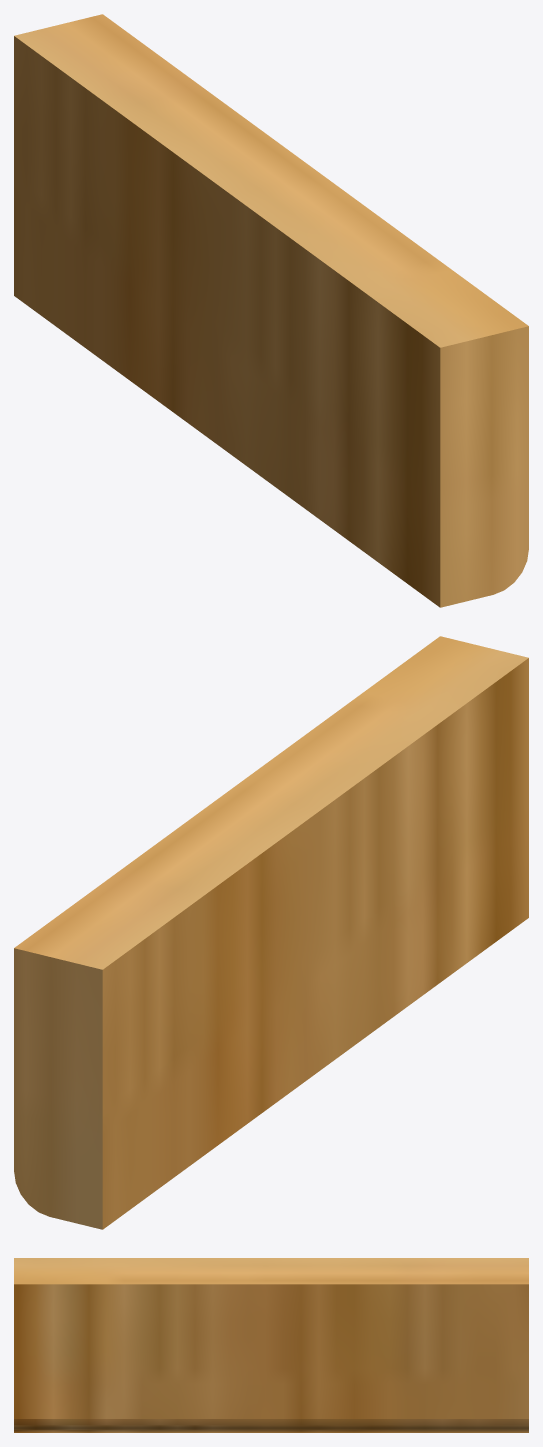
File: original-6.obj
3 views of the same model, one above another, from view 1: azimuth 30°, elevation 25°; view 2: azimuth 150°, elevation 25°; view 3: azimuth 270°, elevation 25° (orthographic). The views are drawn at different scales.
Parts seen in each view (by area): view 1: mesh6/mesh6-geometry#mesh6-geometry; view 2: mesh6/mesh6-geometry#mesh6-geometry; view 3: mesh6/mesh6-geometry#mesh6-geometry.
Part boxes in pixels (x1,y1,x2,y2): mesh6/mesh6-geometry#mesh6-geometry: (14, 14, 528, 607); mesh6/mesh6-geometry#mesh6-geometry: (14, 636, 528, 1229); mesh6/mesh6-geometry#mesh6-geometry: (14, 1258, 528, 1432).
Size of the model in its own units: 0.0594 by 0.1663 by 0.4941.
